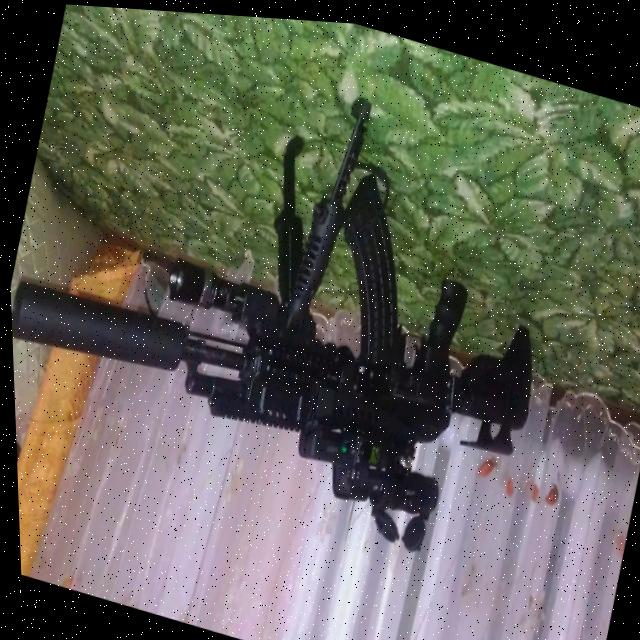firearm: (0, 3, 591, 577)
